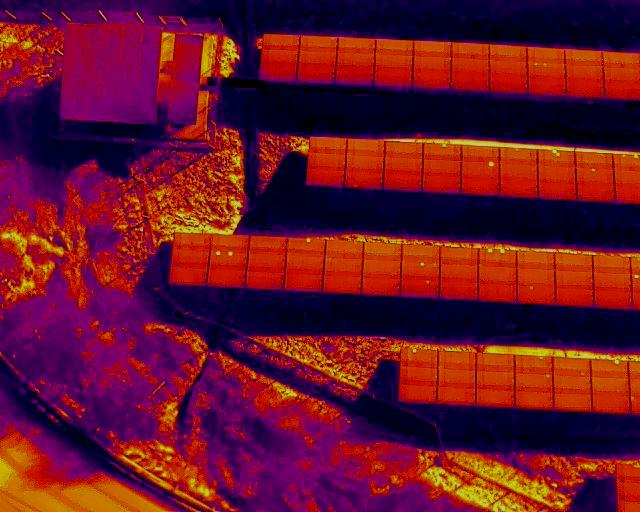Cell: (517, 284, 555, 304), (515, 374, 552, 392), (400, 280, 439, 297), (401, 349, 437, 367), (515, 356, 553, 373), (287, 238, 325, 254), (300, 36, 338, 51), (423, 145, 461, 160), (461, 162, 499, 177), (553, 360, 590, 375), (591, 362, 627, 377), (499, 149, 537, 163), (576, 168, 614, 181)
Cell-Multi: (401, 261, 441, 279), (479, 248, 517, 266), (208, 250, 247, 267), (537, 151, 574, 167), (527, 63, 564, 77), (614, 155, 640, 170)
No-Anomaly: (423, 172, 460, 193), (437, 387, 477, 406), (246, 269, 285, 288), (413, 69, 451, 88), (400, 367, 437, 386), (171, 249, 210, 267), (477, 390, 515, 408), (553, 376, 591, 394), (207, 267, 245, 285), (259, 63, 296, 81), (592, 394, 629, 412), (477, 371, 514, 389), (335, 67, 374, 84), (285, 271, 324, 288), (438, 370, 477, 387), (478, 267, 517, 284), (168, 268, 207, 285), (440, 247, 479, 264), (383, 173, 422, 190), (566, 80, 604, 97), (515, 393, 553, 410), (451, 73, 489, 90), (374, 68, 412, 85), (478, 285, 516, 302), (556, 271, 594, 288), (555, 289, 593, 306), (490, 45, 528, 62), (489, 74, 527, 91), (399, 387, 437, 404), (517, 252, 555, 269), (325, 241, 363, 258), (555, 254, 593, 271), (362, 260, 400, 277), (440, 265, 478, 282), (577, 183, 615, 200), (605, 80, 640, 98), (594, 291, 631, 308), (324, 274, 361, 291), (594, 273, 631, 290), (452, 42, 489, 59), (592, 377, 629, 394), (500, 164, 537, 181), (439, 283, 478, 299), (307, 154, 346, 170), (461, 178, 500, 194), (401, 245, 440, 261), (438, 353, 476, 369), (565, 49, 603, 65), (477, 354, 515, 370), (528, 77, 566, 93), (297, 66, 335, 82), (553, 394, 591, 410), (361, 278, 399, 294), (517, 267, 555, 283), (538, 183, 576, 199), (286, 254, 324, 270), (500, 181, 538, 197), (248, 253, 286, 269), (345, 172, 385, 187), (345, 157, 385, 172), (263, 34, 300, 50), (528, 47, 565, 63), (376, 39, 413, 55), (364, 244, 401, 260), (594, 257, 631, 273), (305, 170, 344, 185), (384, 158, 423, 173), (250, 236, 286, 252), (298, 51, 336, 66), (538, 167, 576, 182), (347, 141, 385, 156), (338, 38, 375, 53), (414, 41, 451, 56), (565, 65, 604, 79), (211, 236, 250, 250), (324, 259, 362, 273), (173, 234, 211, 248), (576, 153, 614, 167), (385, 144, 423, 158), (309, 138, 346, 152), (337, 54, 375, 67), (461, 148, 499, 161), (262, 50, 298, 63), (603, 53, 639, 66), (489, 62, 527, 74), (413, 57, 451, 69), (451, 60, 489, 72), (375, 56, 413, 68), (604, 67, 639, 80), (423, 160, 460, 172), (615, 183, 639, 201), (614, 170, 639, 183)
